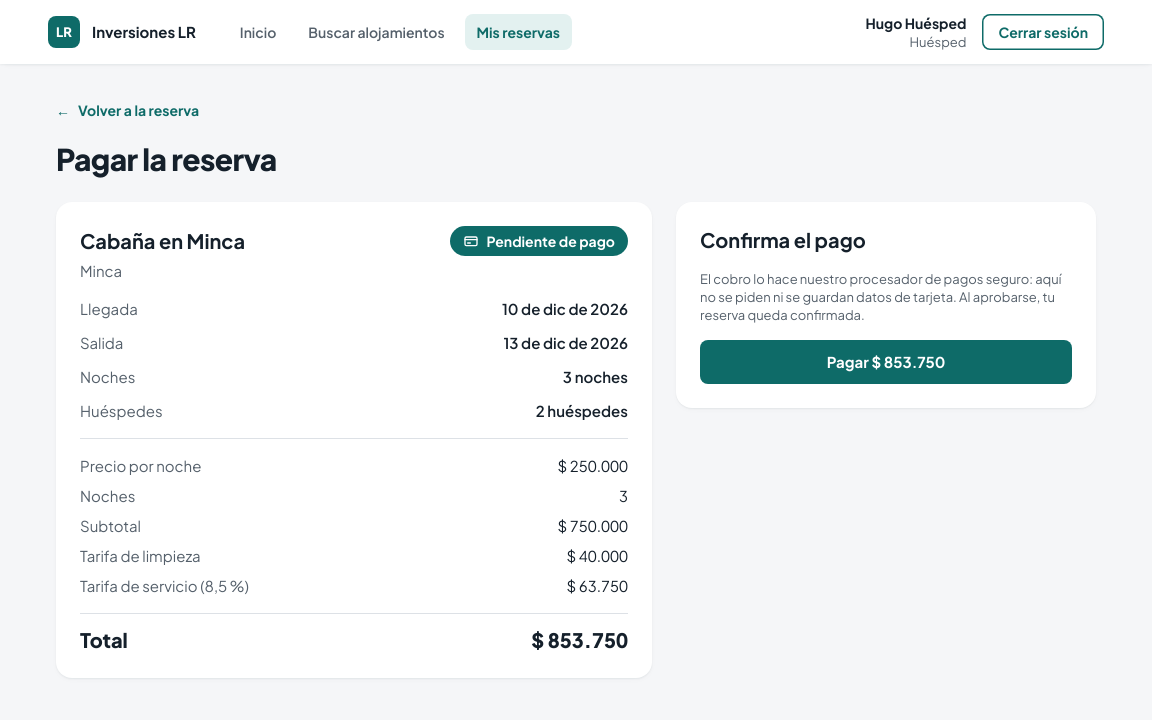
Test: pago de la reserva › clave de idempotencia › se genera una vez por reserva y sobrevive a volver a la pantalla
Later steps or results of the test are not shown.
Expected: the heading "Cabaña en Minca" is shown, [80, 227, 245, 255]
Click the button "Pagar $ 853.750". click: (886, 362)
box: [700, 340, 1072, 384]
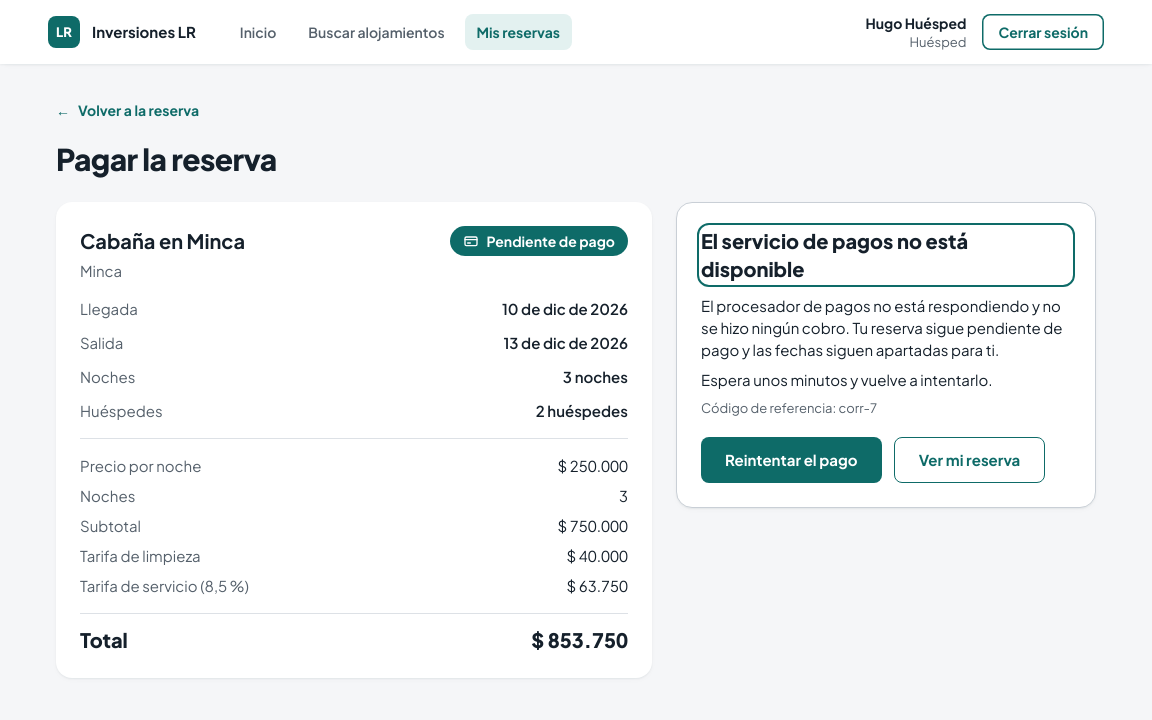
Result: the message is shown at [676, 202, 1096, 508]
